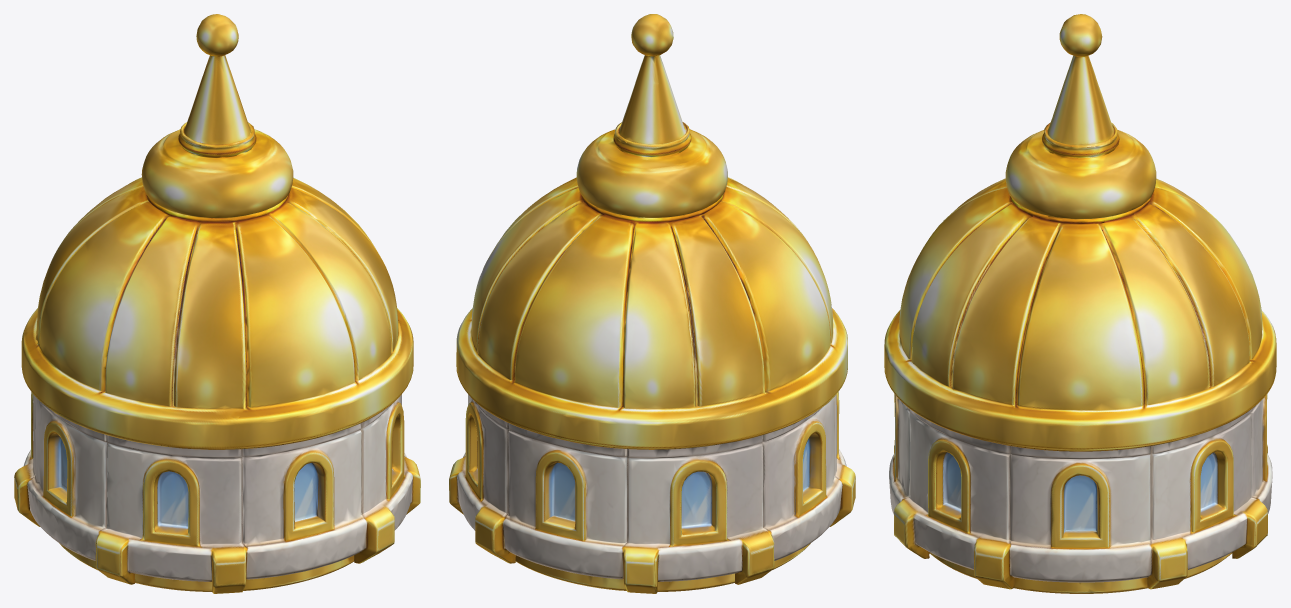
The model's file is HaloPart_TowerDome_HD_src.glb.
3 views of the same model, side by side, from view 1: azimuth 30°, elevation 25°; view 2: azimuth 150°, elevation 25°; view 3: azimuth 270°, elevation 25° (orthographic).
Parts seen in each view (by area): view 1: tripo_node_3fa9aab8-655b-405c-a69a-2028c88fe3a5; view 2: tripo_node_3fa9aab8-655b-405c-a69a-2028c88fe3a5; view 3: tripo_node_3fa9aab8-655b-405c-a69a-2028c88fe3a5.
Part boxes in pixels (bbox=[...]): tripo_node_3fa9aab8-655b-405c-a69a-2028c88fe3a5: bbox=[14, 14, 420, 593]; tripo_node_3fa9aab8-655b-405c-a69a-2028c88fe3a5: bbox=[449, 14, 855, 593]; tripo_node_3fa9aab8-655b-405c-a69a-2028c88fe3a5: bbox=[884, 14, 1276, 593].
Size of the model in its own units: 0.6861 by 0.9779 by 0.6834.
Materials: 1 (1 with a texture image).
